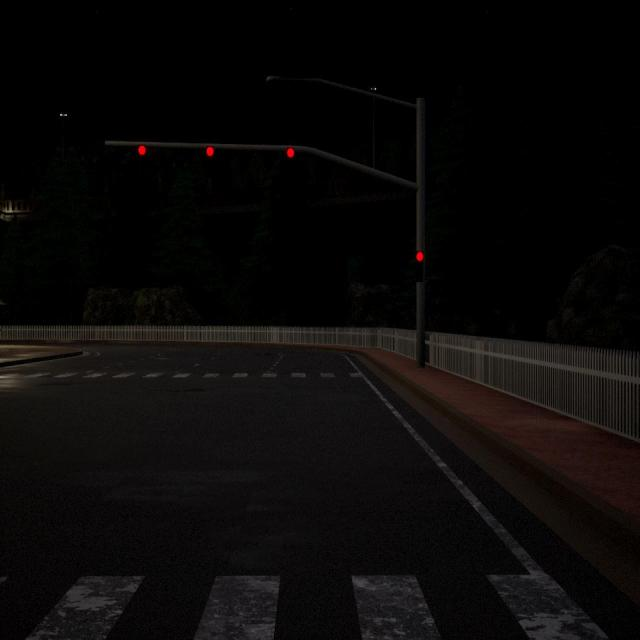traffic_light: (414, 250, 424, 282), (206, 146, 214, 160), (286, 148, 295, 160), (138, 144, 146, 157)
